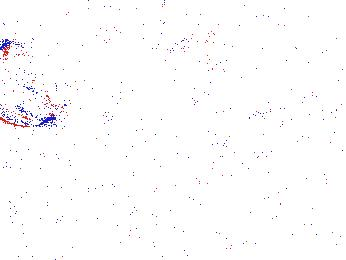moon jellyfish: (261, 36, 346, 117), (184, 42, 269, 116), (141, 45, 210, 112), (1, 43, 55, 127), (102, 95, 180, 145)
